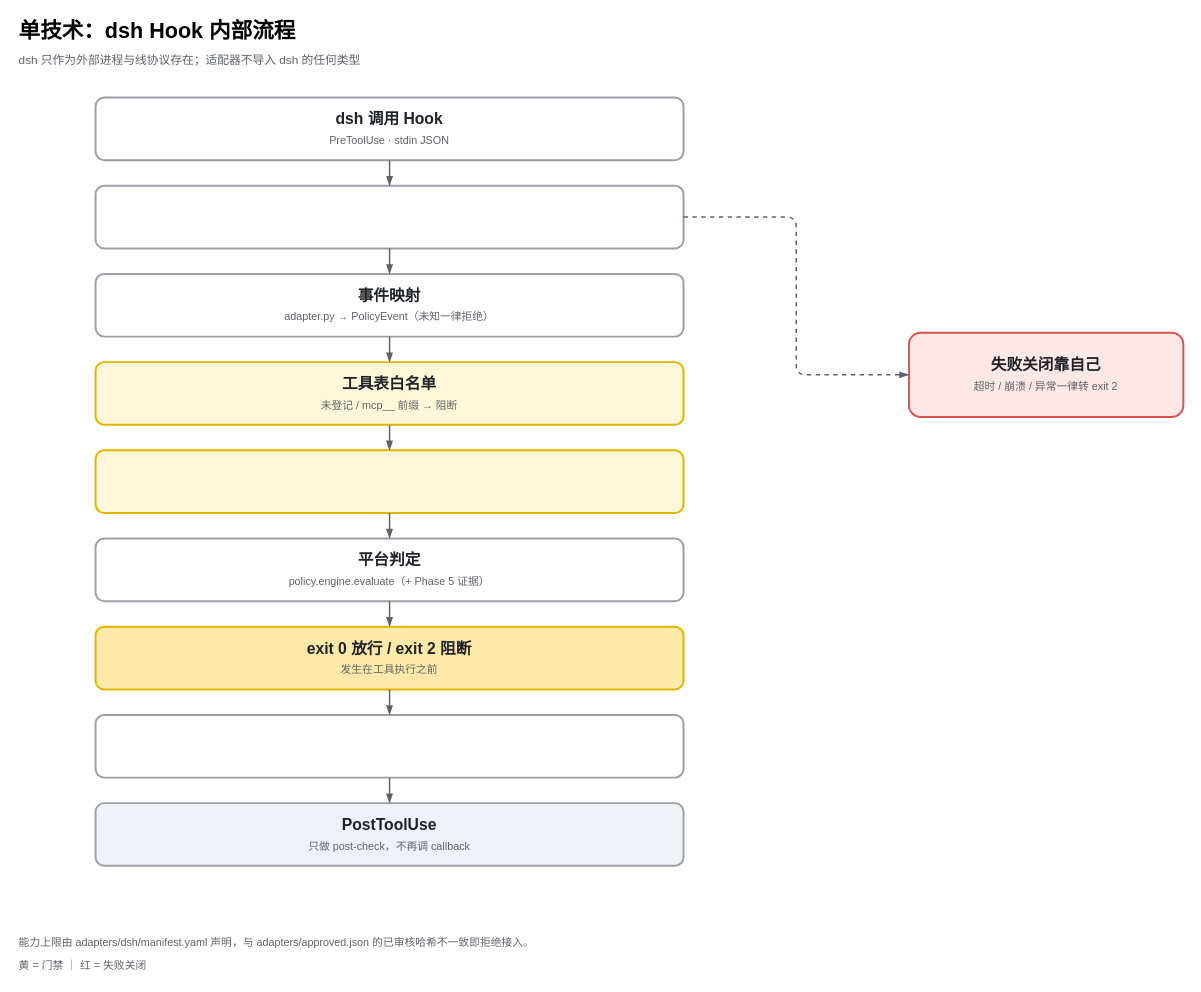
This 1201x992 diagram has some shape labels left out. Each missing label, with the centre of its shape:
"审计写回 JSONL 摘要链；不可写 → 失败关闭" belongs at (x=389, y=745).
"接线自检 内部预算 5000ms < hooks.json 超时 30s" belongs at (x=389, y=216).
"路径范围校验 归一化后必须落在受控项目内" belongs at (x=389, y=481).
